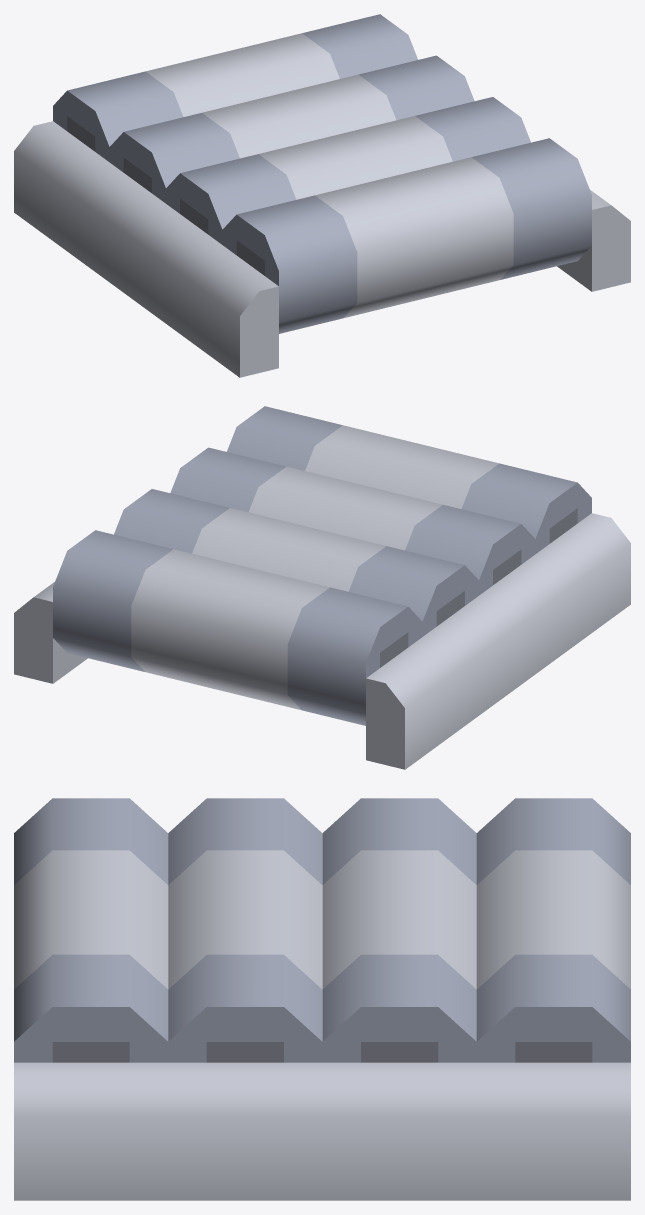
The model's file is conveyor-bars-stripe-side.fbx.
The picture shows the model from 3 angles, top to bottom: view 1: azimuth 30°, elevation 25°; view 2: azimuth 150°, elevation 25°; view 3: azimuth 270°, elevation 25°; orthographic projection. The views are drawn at different scales.
Visible parts, largest first — view 1: Group.013, Group.012; view 2: Group.013, Group.012; view 3: Group.013, Group.012.
Boxes of the visible parts, x1,y1,x2,y2 form: Group.013: [53, 14, 591, 333]; Group.012: [14, 121, 630, 377]; Group.013: [53, 406, 591, 725]; Group.012: [14, 513, 630, 769]; Group.013: [14, 798, 630, 1062]; Group.012: [14, 1062, 630, 1200].
Bounding box in the file's own units: 100 × 30 × 100.
